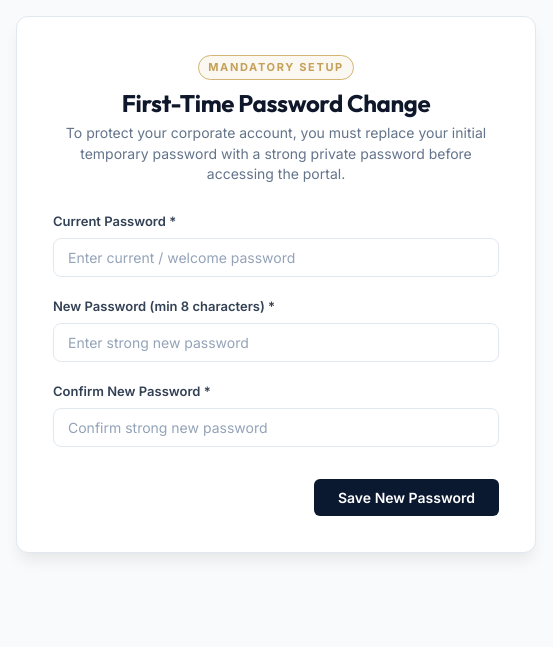
ChangePasswordPage Component (src/app/(portal)/settings/change-password/page.tsx) › validates password length min 8 chars
Type "oldpass123" into the password field labelled "Current Password *" at [276, 258], box [53,238,499,277]
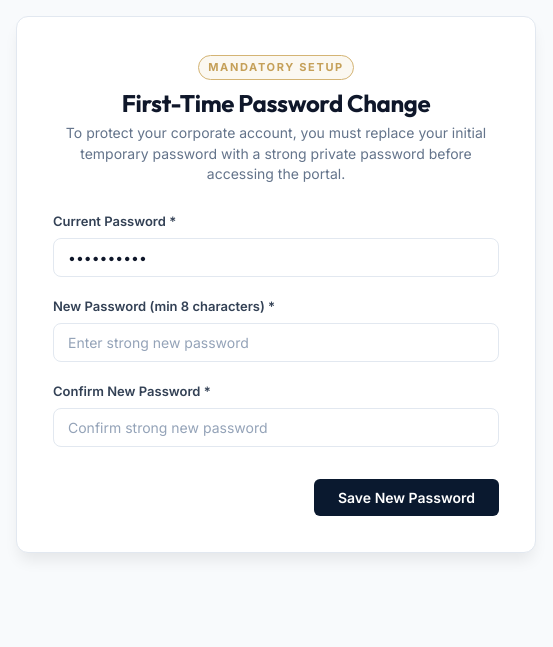
Type "short" into the password field labelled "New Password (min 8 characters) *" at [276, 342], box [53,323,499,362]
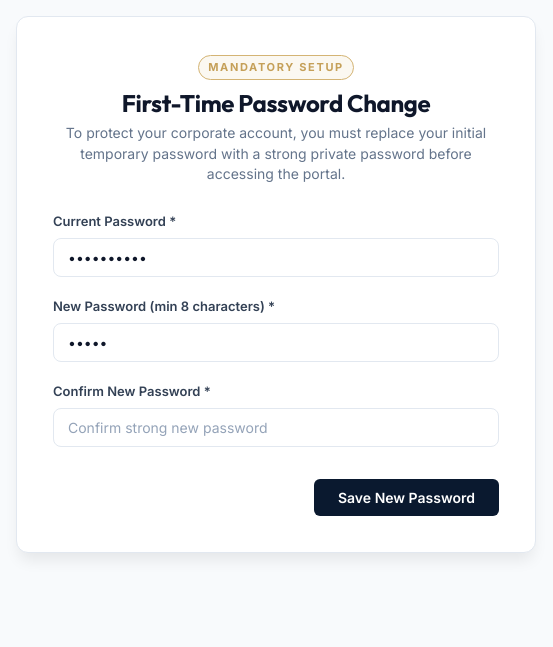
Type "short" into the password field labelled "Confirm New Password *" at [276, 427], box [53,408,499,447]
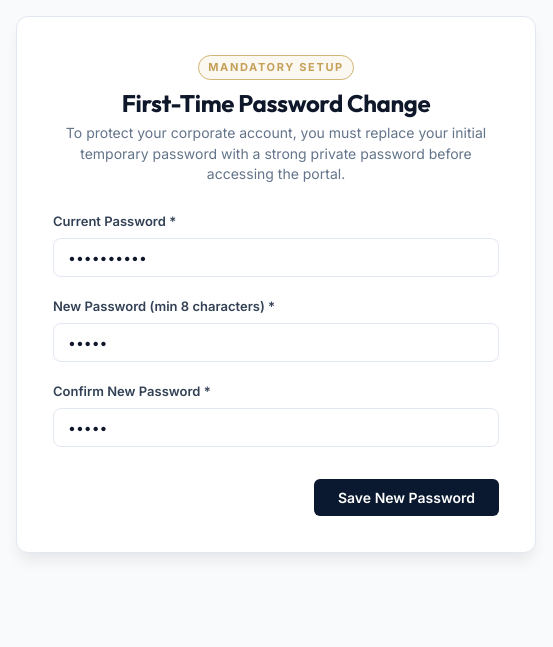
Click the button "Save New Password" at [406, 497], box [314,479,499,516]
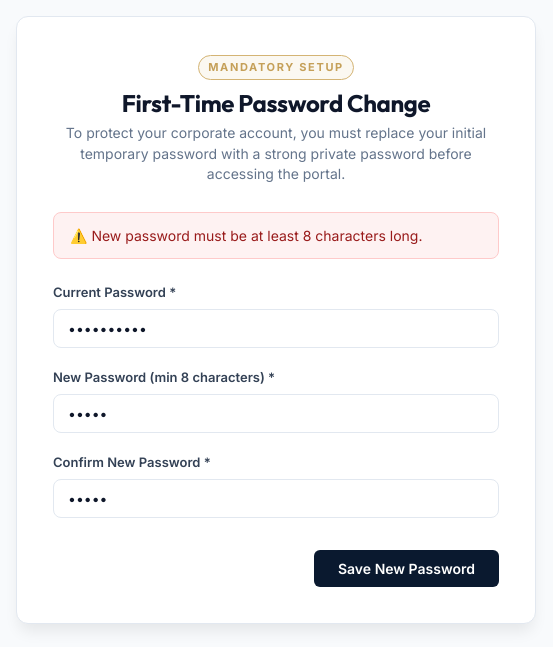
Now the text "⚠️ New password must be at least 8 characters long." is shown, box [70,227,422,244]
